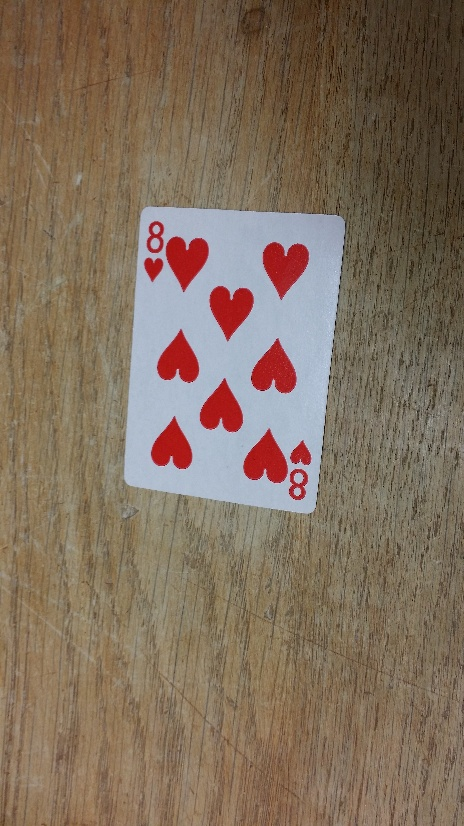H8: (143, 214, 166, 284), (289, 435, 310, 502)
